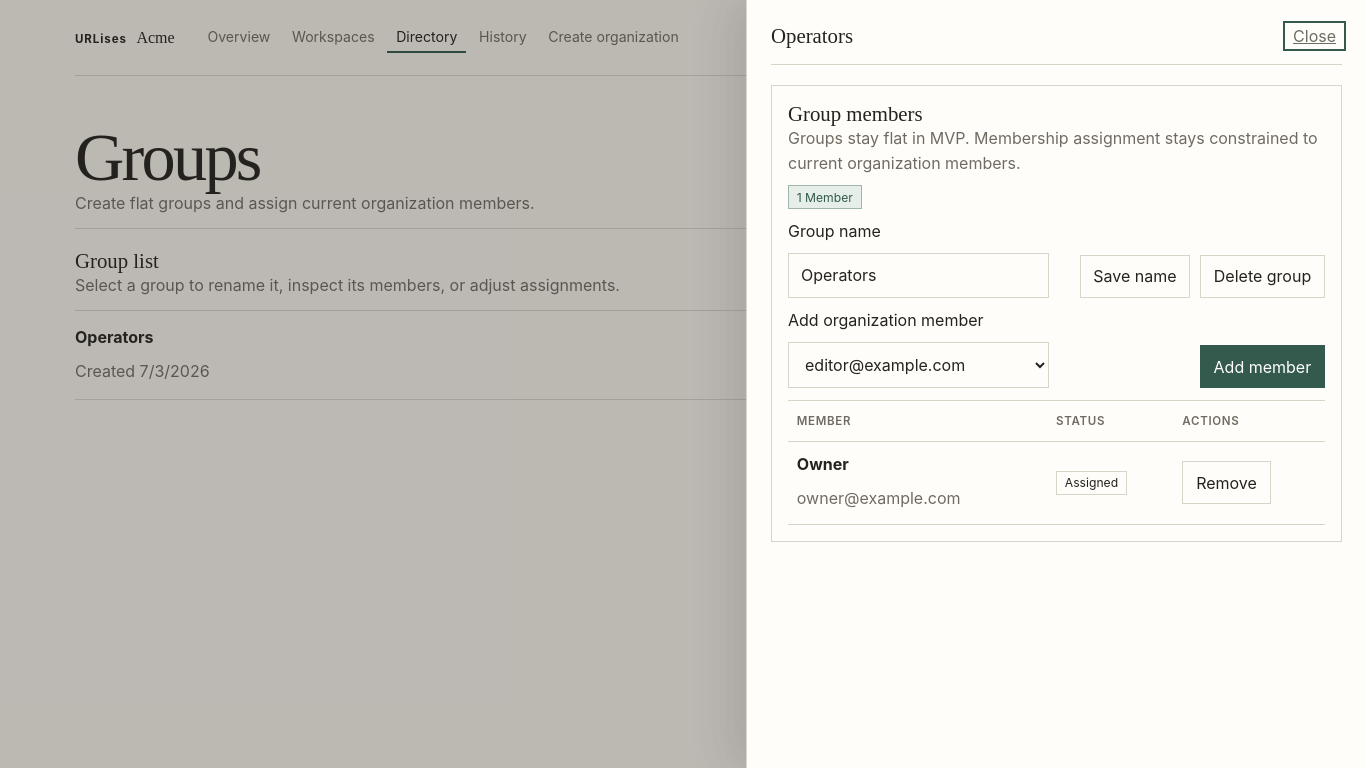
it: groups page › adds and removes group members from the selected panel
Expected: the text "Operators" is shown, left=75, top=326, right=154, bottom=346
Click the button "Add member".
click(1262, 367)  # box left=1200, top=345, right=1325, bottom=388
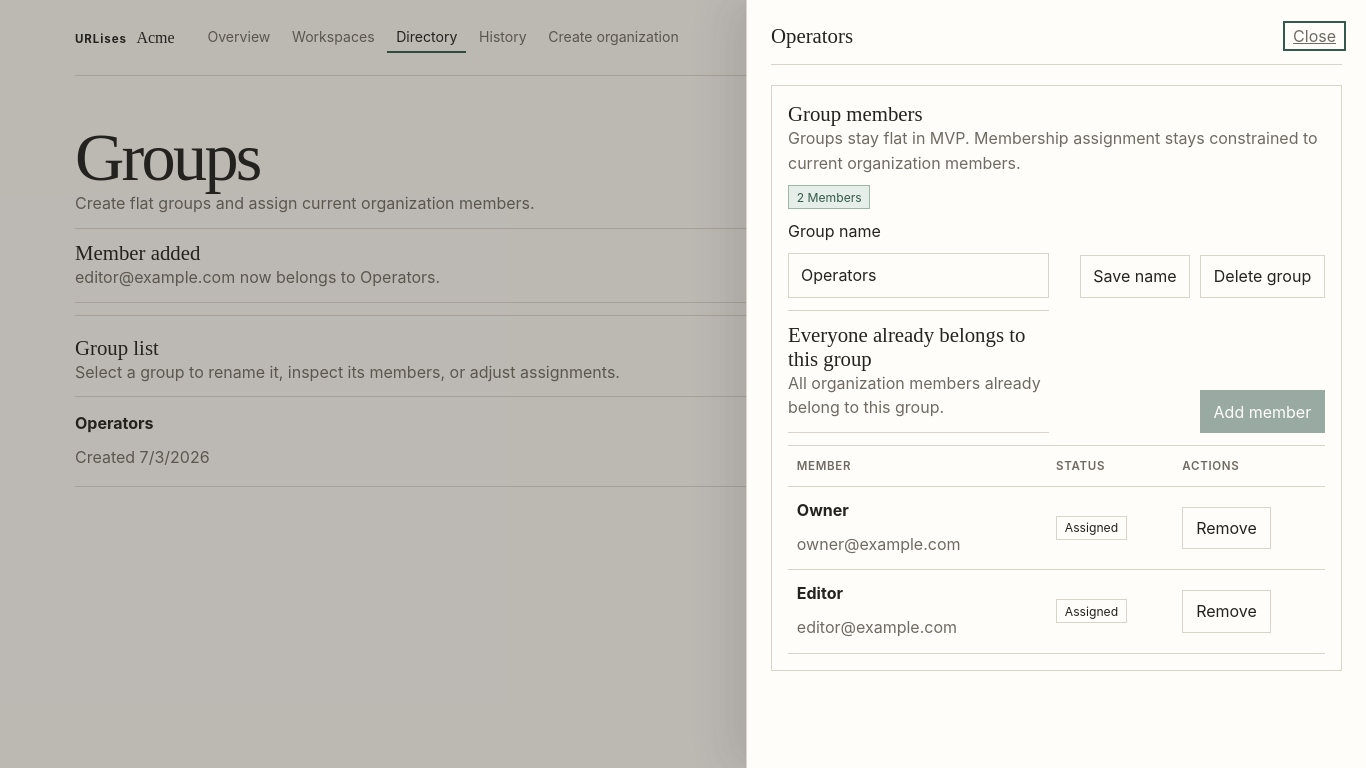
Now the heading "Member added" is shown, box left=75, top=241, right=200, bottom=264
Now the text "editor@example.com now belongs to Operators." is shown, box left=75, top=267, right=440, bottom=287
Click the 2nd button "Remove".
click(1226, 611)  # box left=1182, top=590, right=1271, bottom=633
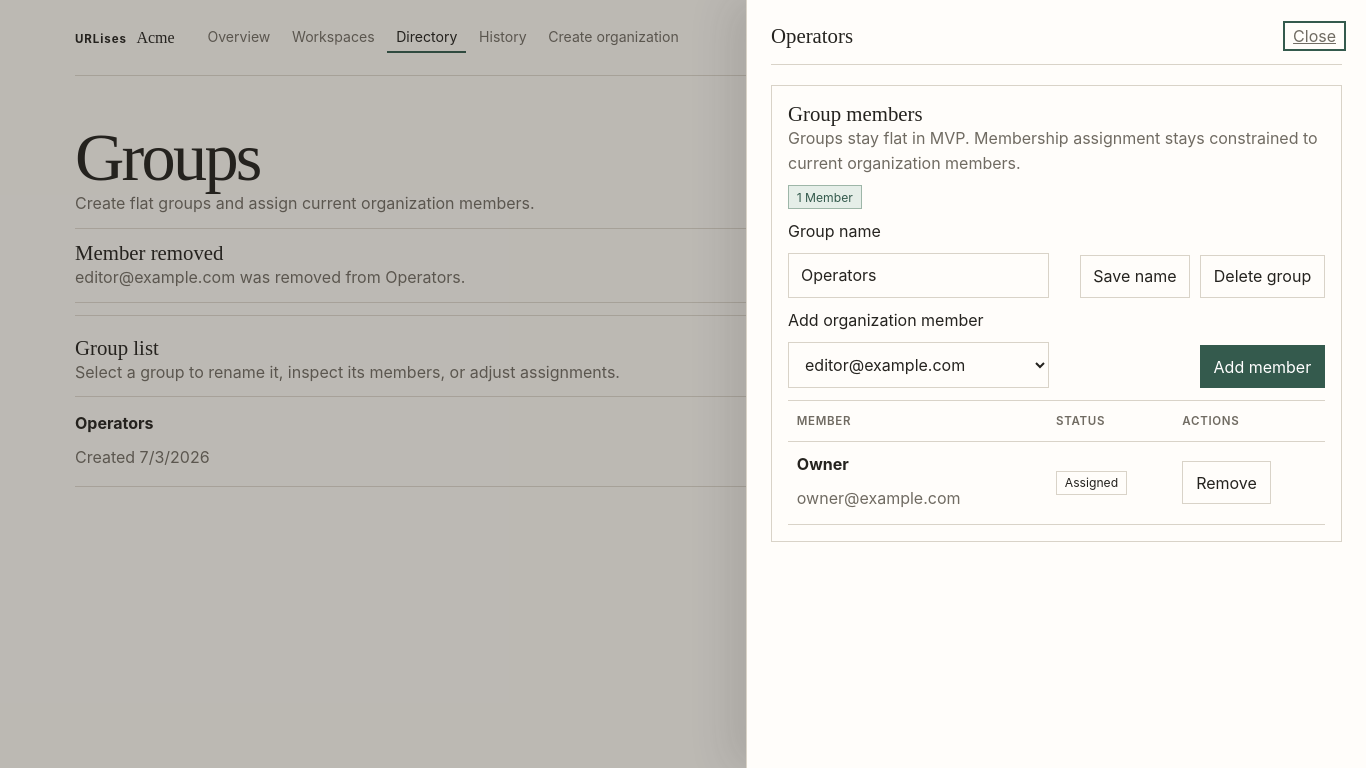
Now the heading "Member removed" is shown, box left=75, top=241, right=223, bottom=264
